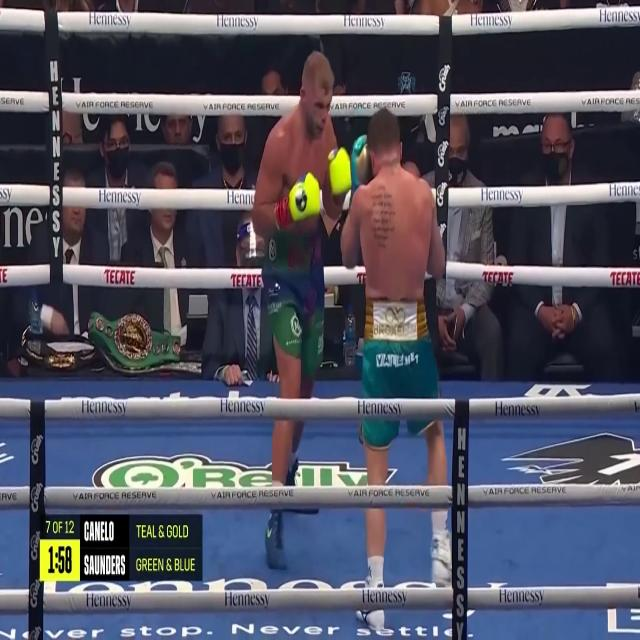boxer_1: (280, 51, 337, 199)
boxer_2: (360, 110, 432, 299)
gloves_1: (275, 172, 320, 228), (325, 146, 352, 206)
gloves_2: (351, 135, 372, 193), (402, 161, 421, 177)
